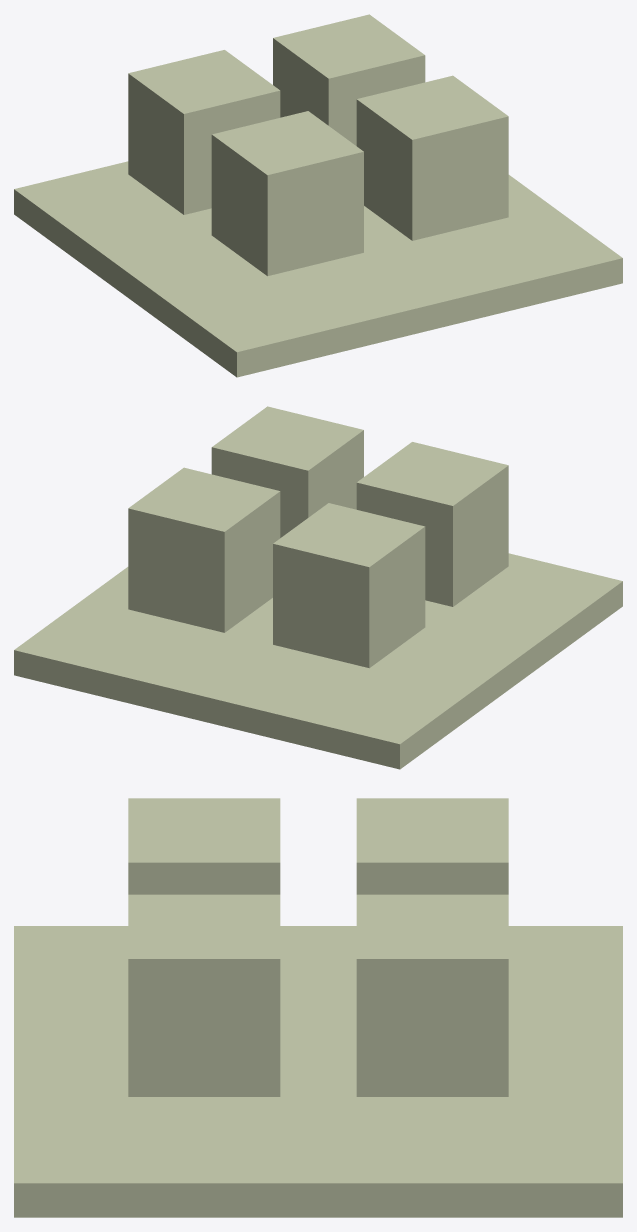
File: colored_cubes.fbx
3 renders of one model, top to bottom at view 1: azimuth 30°, elevation 25°; view 2: azimuth 150°, elevation 25°; view 3: azimuth 270°, elevation 25°, orthographic. The views are drawn at different scales.
Parts seen in each view (by area): view 1: white_ground, cube_green, cube_red, cube_white, cube_blue; view 2: white_ground, cube_white, cube_blue, cube_green, cube_red; view 3: white_ground, cube_blue, cube_red, cube_white, cube_green.
Boxes of the visible parts, <box> form: white_ground: <box>14,161,622,377</box>; cube_green: <box>211,111,363,276</box>; cube_red: <box>356,75,508,240</box>; cube_white: <box>128,50,280,214</box>; cube_blue: <box>273,14,425,145</box>; white_ground: <box>14,553,622,769</box>; cube_white: <box>273,503,425,668</box>; cube_blue: <box>128,467,280,632</box>; cube_green: <box>356,442,508,606</box>; cube_red: <box>211,406,363,537</box>; white_ground: <box>14,926,622,1217</box>; cube_blue: <box>356,894,508,1096</box>; cube_red: <box>128,894,280,1096</box>; cube_white: <box>356,798,508,894</box>; cube_green: <box>128,798,280,894</box>.
Size of the model in its own units: 800 by 305 by 800.
